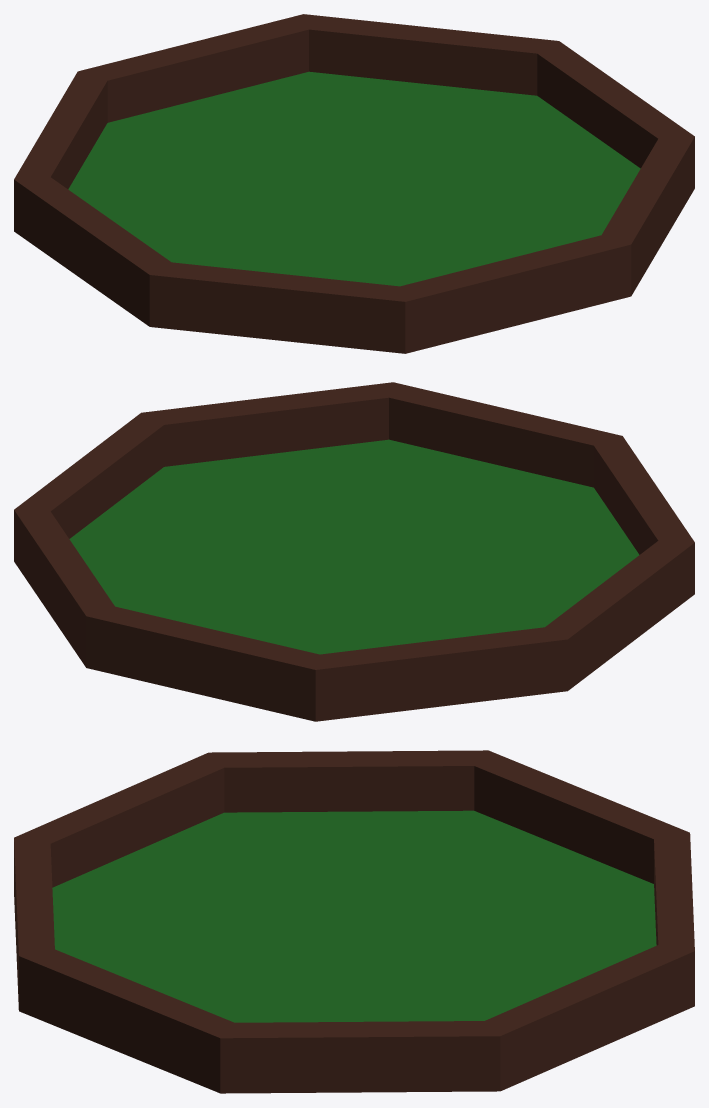
Rendered from dicetray.fbx.
3 renders of one model, top to bottom at view 1: azimuth 30°, elevation 25°; view 2: azimuth 150°, elevation 25°; view 3: azimuth 270°, elevation 25°, orthographic. The views are drawn at different scales.
Visible parts, largest first — view 1: Cylinder; view 2: Cylinder; view 3: Cylinder.
Part boxes in pixels (x1,y1,x2,y2): Cylinder: (14, 14, 694, 353); Cylinder: (14, 382, 694, 721); Cylinder: (14, 750, 694, 1093).
Bounding box in the file's own units: 279 × 25 × 279.
